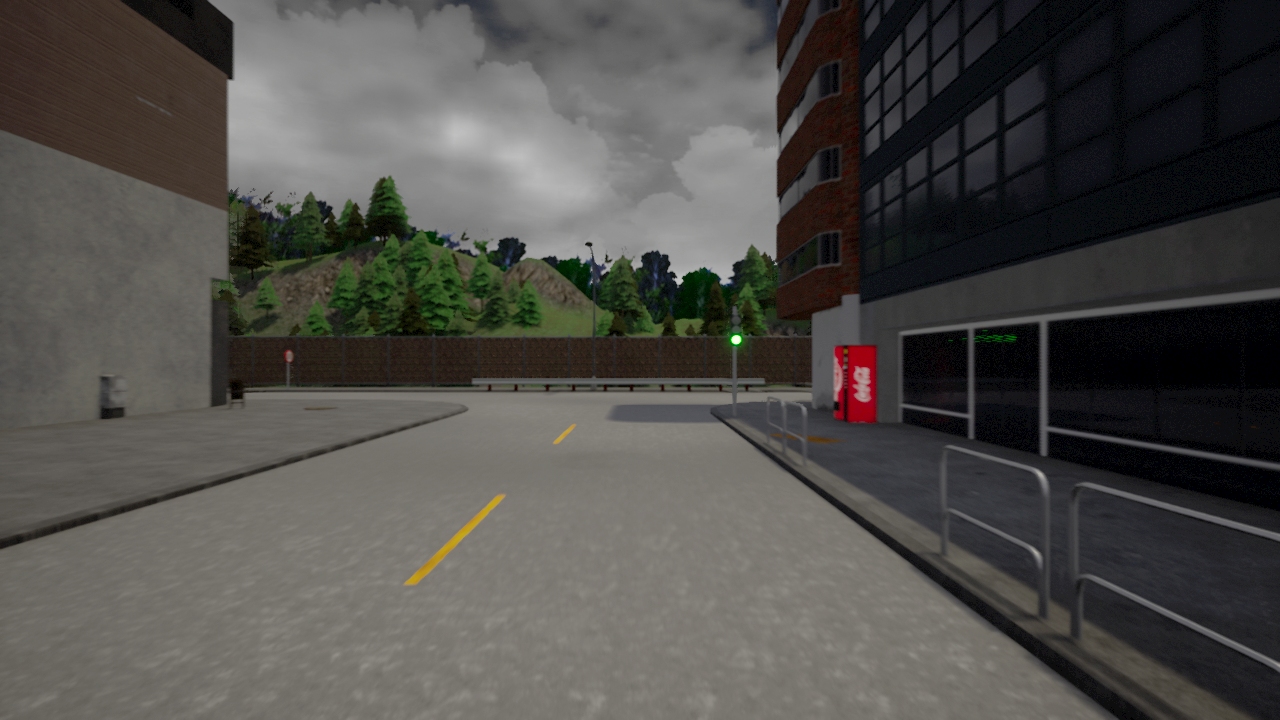green: (728, 313, 743, 347)
